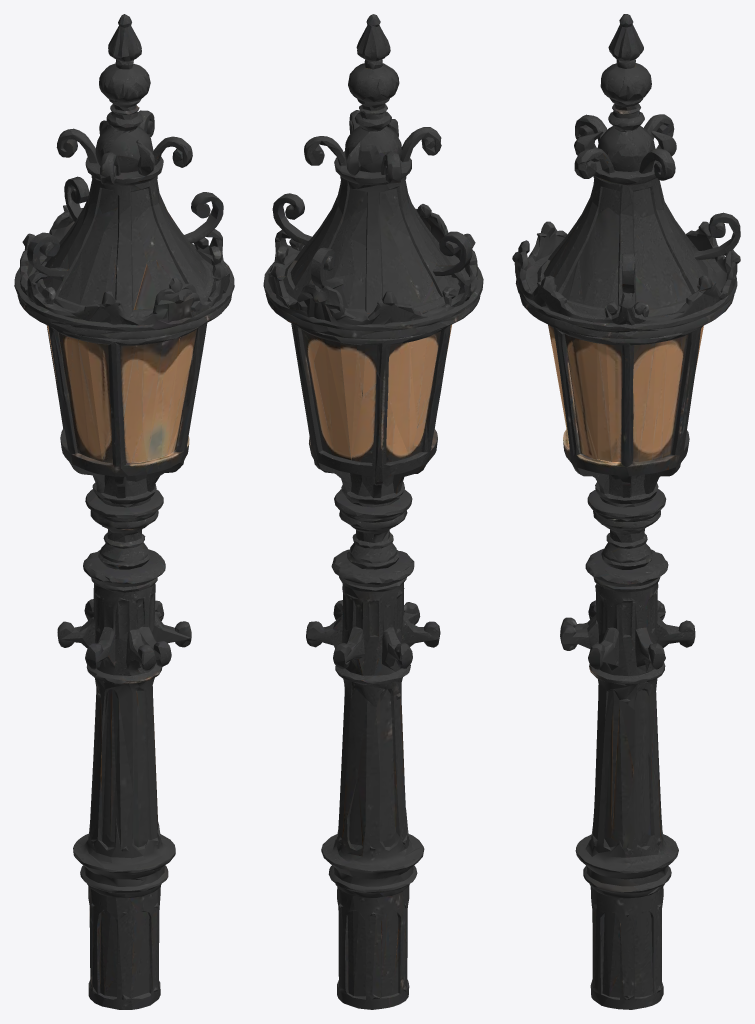
File: lamp.glb
3 views of the same model, side by side, from view 1: azimuth 30°, elevation 25°; view 2: azimuth 150°, elevation 25°; view 3: azimuth 270°, elevation 25° (orthographic).
Size of the model in its own units: 0.3926 by 1.9 by 0.4017.
1 material, 1 textured.
